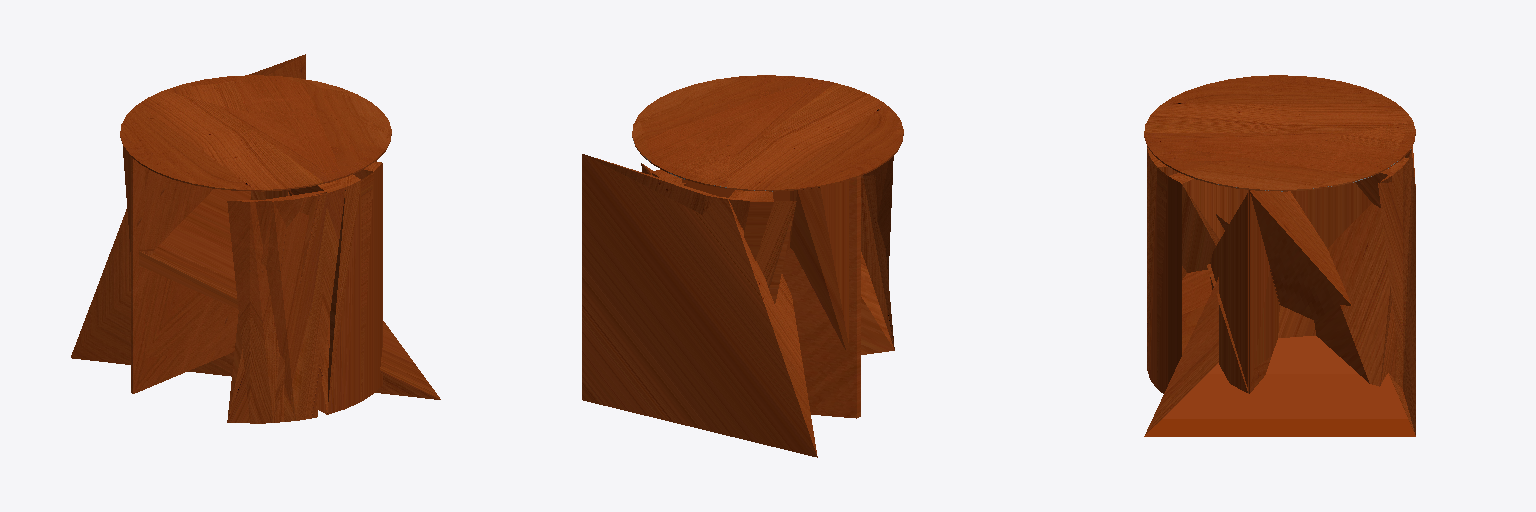
3 views of the same model, side by side, from view 1: azimuth 30°, elevation 25°; view 2: azimuth 150°, elevation 25°; view 3: azimuth 270°, elevation 25° (orthographic).
Parts seen in each view (by area): view 1: Door, portal, frame2, frame1; view 2: Door, portal, frame1, frame2; view 3: Door, frame2, portal, frame1.
Part boxes in pixels (x1,y1,x2,y2): Door: (71, 54, 440, 423); portal: (120, 75, 391, 191); frame2: (130, 76, 385, 414); frame1: (136, 75, 389, 185); Door: (582, 77, 903, 457); portal: (632, 75, 901, 191); frame1: (639, 80, 903, 191); frame2: (642, 77, 902, 189); Door: (1144, 76, 1415, 436); frame2: (1147, 75, 1412, 393); portal: (1144, 76, 1415, 190); frame1: (1146, 77, 1415, 188).
Bounding box in the file's own units: 2398 × 2400 × 2398.
2 materials, 1 textured.